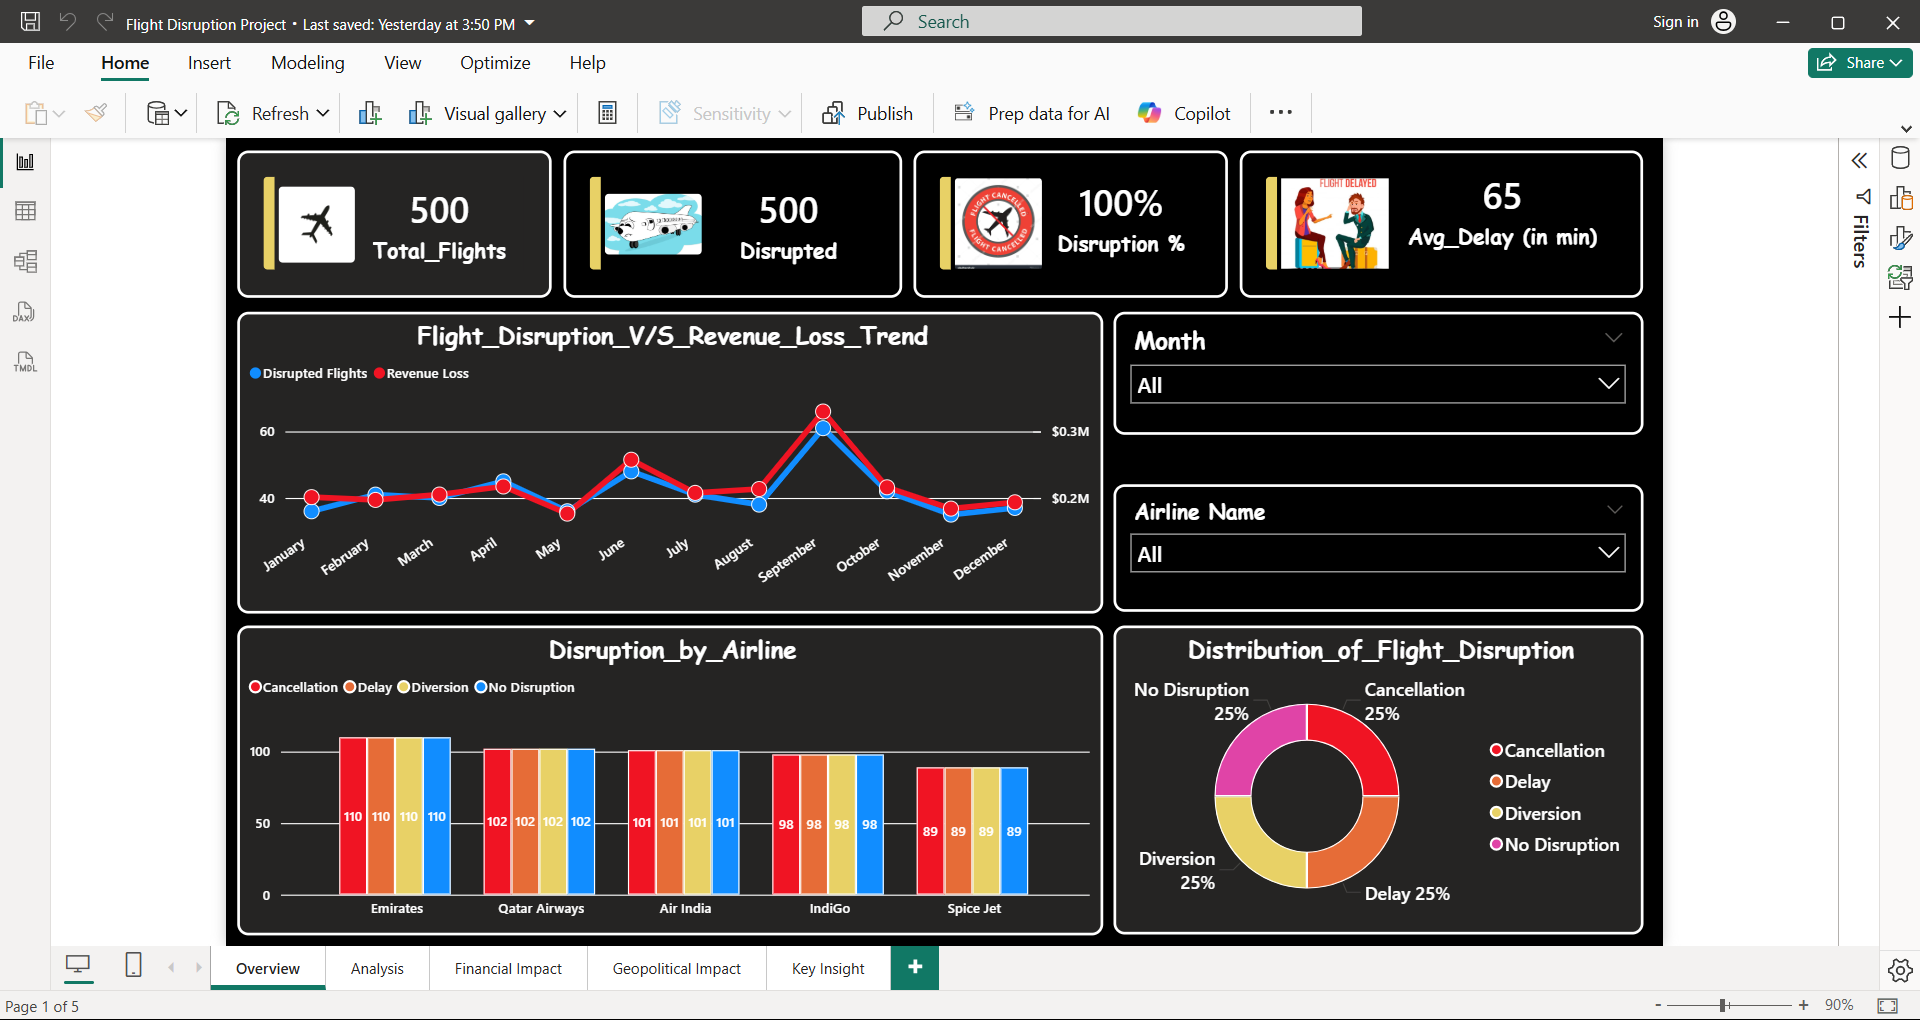

The page's visual inventory and layout, read from the dashboard file:
{"tool":"powerbi","page":{"name":"Overview","canvas":[1280,720],"ordinal":0},"visuals":[{"type":"cardVisual","fields":{"Data":["Measure_F.Total Flights"]},"box":[10.1,11.5,279.9,131.3],"z":0},{"type":"cardVisual","fields":{"Data":["Measure_F.Disrupted Flights"]},"box":[300.1,11.5,301.5,131.3],"z":1000},{"type":"cardVisual","fields":{"Data":["Measure_F.Disruption Rate"]},"box":[611.7,11.5,279.9,131.3],"z":2000},{"type":"cardVisual","fields":{"Data":["Measure_F.Avg Delay"]},"box":[903.2,11.5,359.2,131.3],"z":3000},{"type":"lineChart","title":"Flight_Disruption_V/S_Revenue_Loss_Trend","fields":{"Category":["Flight_Disruption.Date of Disruption.Variation.Date Hierarchy.Month"],"Y":["Measure_F.Disrupted Flights"],"Y2":["Sum(Flight_Disruption.Revenue Loss)"]},"box":[9.7,154.4,770.9,269],"z":4000},{"type":"clusteredColumnChart","title":"Disruption_by_Airline","fields":{"Category":["Flight_Disruption.Airline Name"],"Y":["Measure_F.Disrupted Flights"],"Series":["Flight_Disruption.Disruption Type"]},"box":[9.7,434.3,770.9,276.3],"z":5000},{"type":"donutChart","title":"Distribution_of_Flight_Disruption","fields":{"Category":["Flight_Disruption.Disruption Type"],"Y":["Measure_F.Disrupted Flights"]},"box":[790.6,434.3,471.8,275.6],"z":6000},{"type":"slicer","fields":{"Values":["Flight_Disruption.Date of Disruption.Variation.Date Hierarchy.Month"]},"box":[790.6,154.4,471.8,109.6],"z":7000},{"type":"slicer","fields":{"Values":["Flight_Disruption.Airline Name"]},"box":[790.6,308.8,471.8,114],"z":8000}]}

Visuals, with their boxes on the page's 1280x720 design canvas (x1, y1, x2, y2). These are canvas units, not pixel positions in the 1920x1020 screenshot, which may show the page scaled, cropped or inside an application window:
cardVisual - Measure_F.Total Flights: left=10, top=12, right=290, bottom=143
cardVisual - Measure_F.Disrupted Flights: left=300, top=12, right=602, bottom=143
cardVisual - Measure_F.Disruption Rate: left=612, top=12, right=892, bottom=143
cardVisual - Measure_F.Avg Delay: left=903, top=12, right=1262, bottom=143
"Flight_Disruption_V/S_Revenue_Loss_Trend" lineChart: left=10, top=154, right=781, bottom=423
"Disruption_by_Airline" clusteredColumnChart: left=10, top=434, right=781, bottom=711
"Distribution_of_Flight_Disruption" donutChart: left=791, top=434, right=1262, bottom=710
slicer - Flight_Disruption.Date of Disruption.Variation.Date Hierarchy.Month: left=791, top=154, right=1262, bottom=264
slicer - Flight_Disruption.Airline Name: left=791, top=309, right=1262, bottom=423
